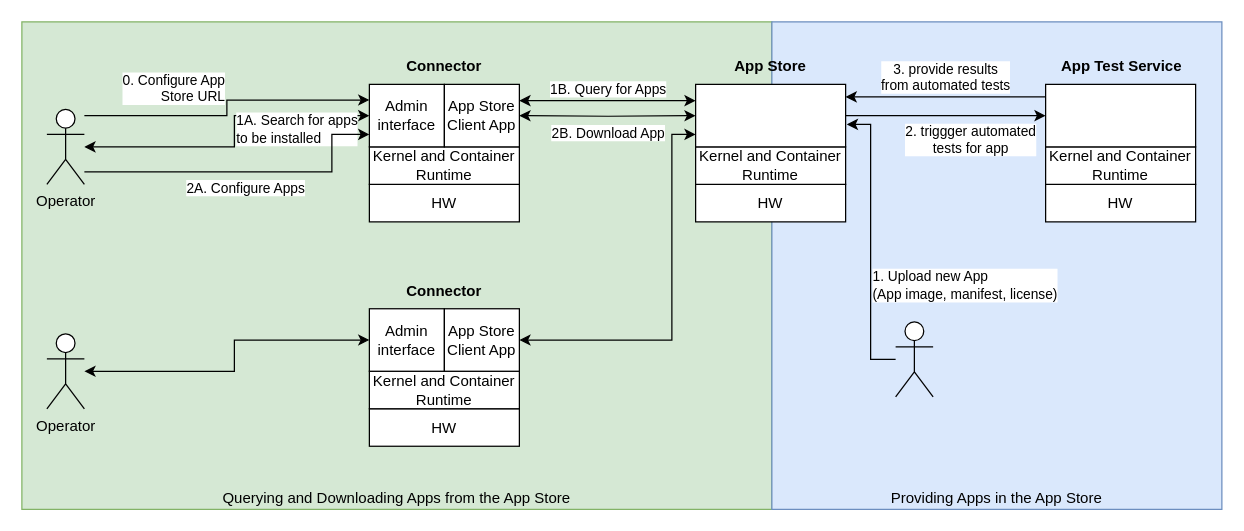
Image size: 1244x531. Some labels were removed from this diagram. Each missing label, with the centre of its shape:
"App Developer" goes at pixel 913 359.
"App Store Server App" goes at pixel 770 115.
"App Test Service App" goes at pixel 1120 115.
